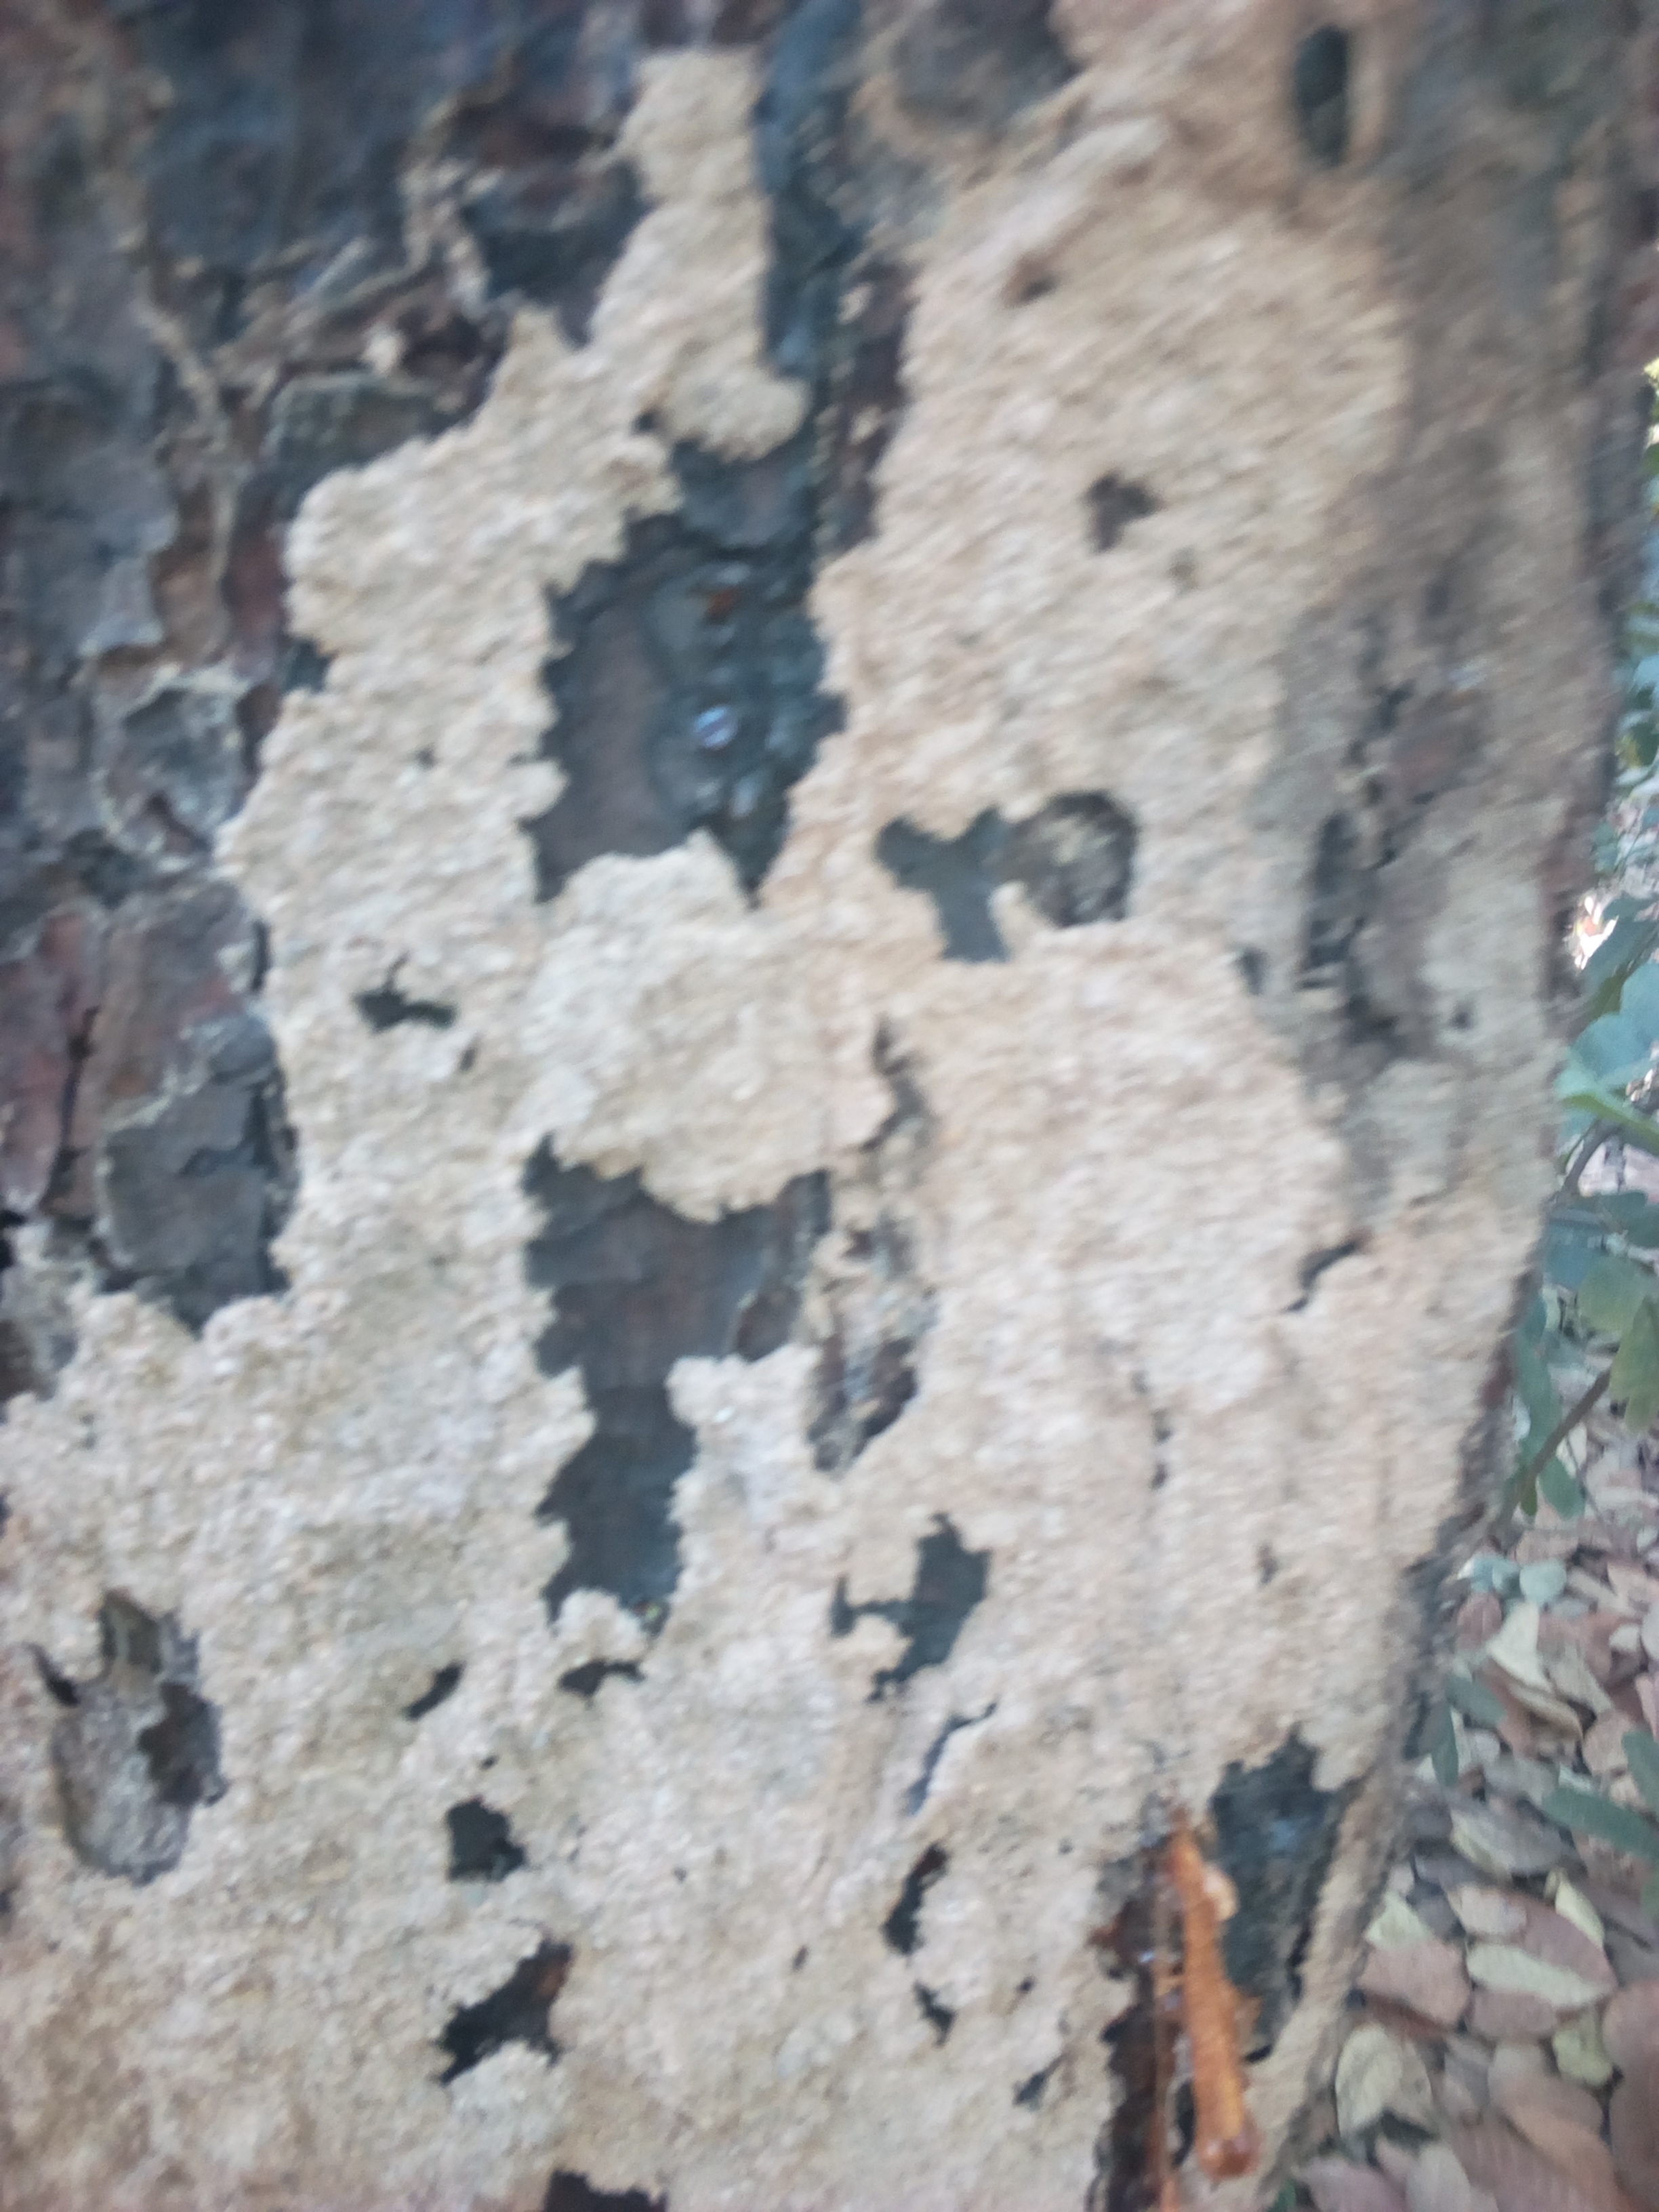Termites: (33, 1275, 1328, 2212), (653, 38, 1361, 1235), (251, 388, 636, 1252)
